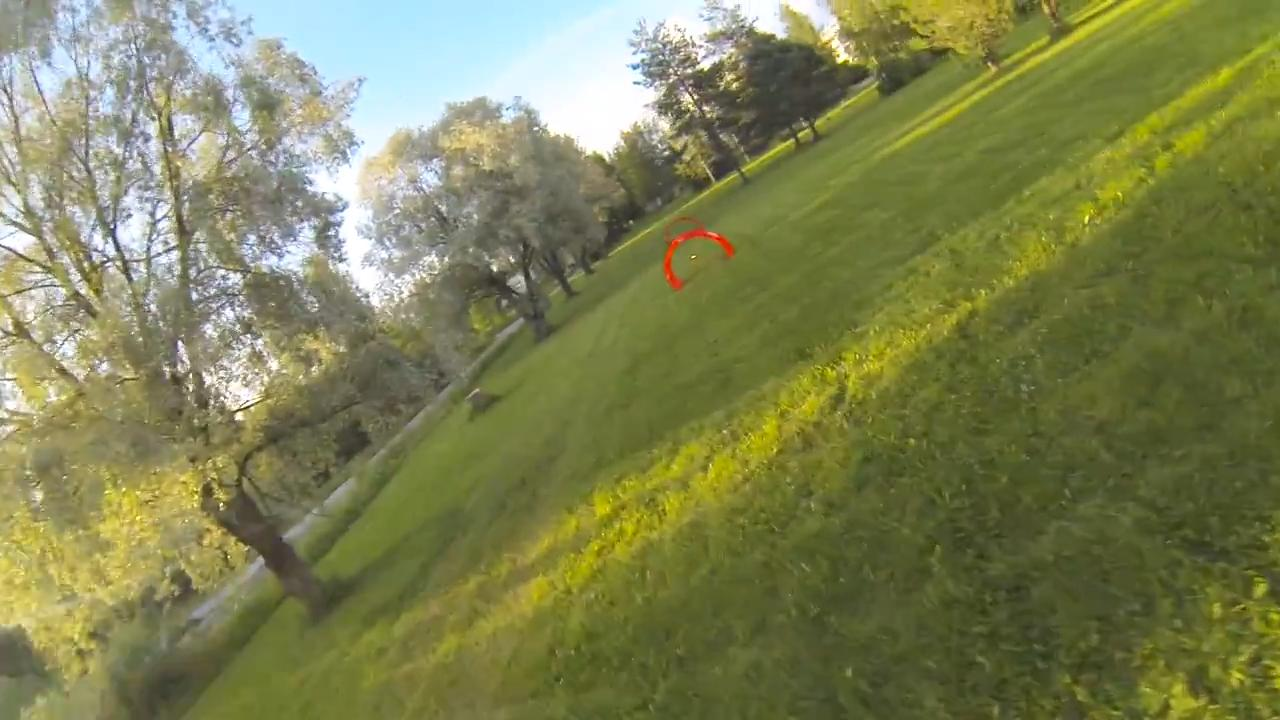gate: (661, 229, 729, 294)
